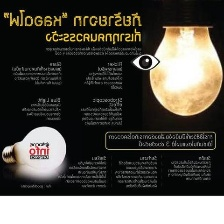light_bulb: (146, 18, 224, 121), (0, 121, 68, 175)
